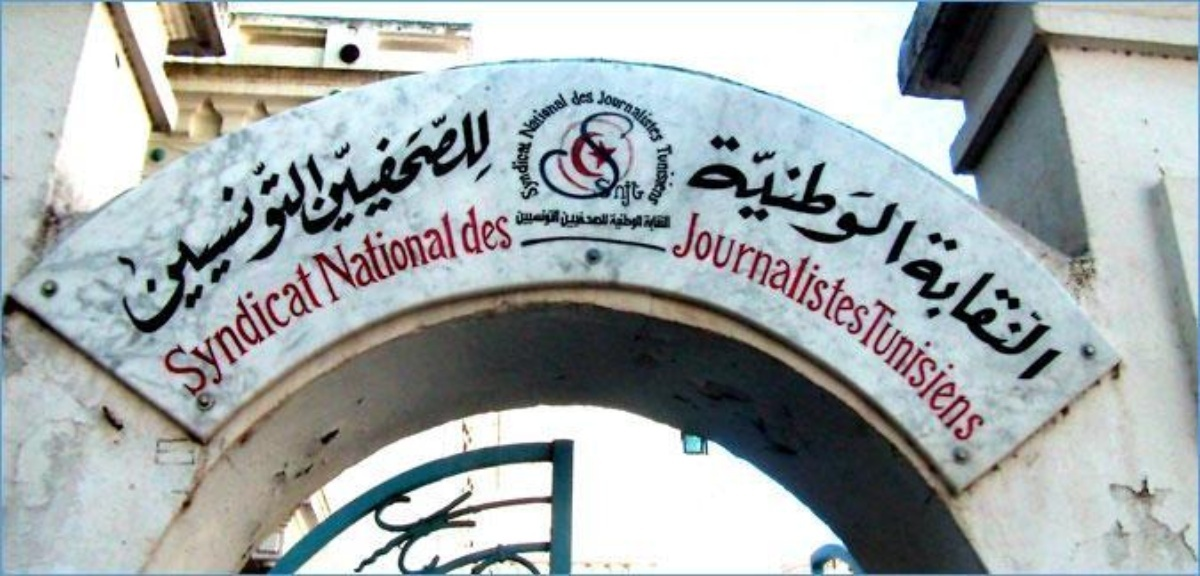text: (97, 121, 112, 349), (113, 121, 128, 349), (129, 121, 144, 349), (145, 121, 160, 349), (161, 121, 176, 349), (177, 121, 192, 349), (193, 121, 208, 349), (209, 121, 224, 349), (225, 121, 240, 349), (241, 121, 256, 349), (257, 121, 272, 349), (273, 121, 288, 349), (289, 121, 304, 349), (305, 121, 320, 349), (321, 121, 333, 349), (737, 100, 752, 278), (753, 100, 768, 278), (769, 100, 784, 278), (785, 100, 800, 278), (801, 100, 816, 278), (817, 100, 832, 278), (833, 100, 848, 278), (849, 100, 864, 278), (865, 100, 880, 278), (881, 100, 896, 278), (897, 100, 912, 278), (945, 214, 960, 390), (961, 214, 976, 390), (977, 214, 992, 390), (993, 214, 1008, 390), (1009, 214, 1024, 390), (1025, 214, 1040, 390), (1041, 214, 1056, 390), (1057, 214, 1072, 390), (993, 294, 1009, 447), (881, 294, 896, 447), (897, 294, 912, 447), (913, 294, 928, 447), (929, 294, 944, 447), (945, 294, 960, 447), (961, 294, 976, 447), (977, 294, 992, 447), (86, 121, 96, 349), (161, 257, 176, 404), (177, 257, 192, 404), (193, 257, 208, 404), (209, 257, 224, 404), (225, 257, 240, 404), (241, 257, 256, 404), (257, 257, 272, 404), (273, 257, 288, 404), (289, 257, 304, 404), (305, 257, 320, 404), (724, 100, 736, 278), (337, 105, 352, 246), (353, 105, 368, 246), (369, 105, 384, 246), (385, 105, 400, 246), (401, 105, 416, 246), (417, 105, 432, 246), (433, 105, 448, 246), (449, 105, 464, 246), (465, 105, 480, 246), (932, 214, 944, 390), (481, 105, 495, 246), (705, 209, 720, 340), (721, 209, 736, 340), (737, 209, 752, 340), (753, 209, 768, 340), (769, 209, 784, 340), (785, 209, 800, 340), (801, 209, 816, 340), (817, 209, 832, 340), (833, 209, 848, 340), (849, 209, 864, 340), (865, 209, 880, 340), (690, 209, 704, 340), (913, 100, 923, 278), (321, 209, 336, 303), (337, 209, 352, 303), (353, 209, 368, 303), (369, 209, 384, 303), (385, 209, 400, 303), (401, 209, 416, 303), (417, 209, 432, 303), (433, 209, 448, 303), (1073, 214, 1081, 390), (306, 209, 320, 303), (153, 257, 160, 404), (321, 257, 328, 404), (657, 143, 672, 209), (329, 105, 336, 246), (513, 137, 528, 201), (465, 198, 480, 258), (481, 198, 496, 258), (497, 198, 512, 258), (609, 88, 624, 145), (625, 88, 640, 145), (641, 88, 656, 145), (657, 88, 672, 145), (513, 88, 528, 143), (529, 88, 544, 143), (545, 88, 560, 143), (644, 143, 656, 209), (529, 137, 541, 201), (449, 209, 457, 303), (598, 88, 608, 145), (673, 88, 683, 145), (561, 88, 571, 143), (593, 175, 608, 209), (609, 175, 624, 209), (625, 175, 640, 209), (456, 198, 464, 258), (877, 294, 880, 447), (529, 207, 544, 228), (545, 207, 560, 228), (625, 212, 640, 232), (561, 210, 576, 230), (577, 210, 592, 230), (593, 210, 608, 230), (514, 207, 528, 228), (641, 214, 656, 233), (610, 212, 624, 232), (577, 89, 592, 107), (657, 214, 671, 233), (673, 143, 676, 209), (641, 175, 646, 209), (509, 88, 512, 143), (568, 89, 576, 107), (513, 198, 514, 258), (593, 89, 596, 107), (591, 175, 592, 209), (561, 207, 562, 228), (641, 212, 642, 232), (609, 210, 610, 230)
